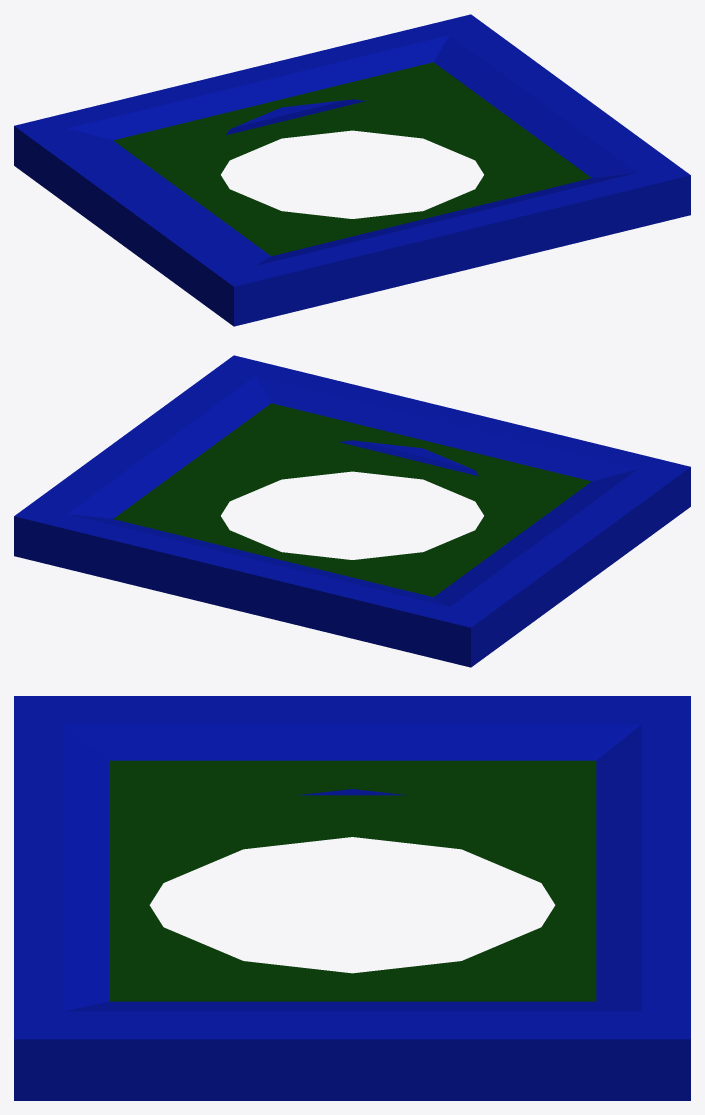
Rendered from OBJ_Tile_Sol_Tuyau.fbx.
3 views of the same model, one above another, from view 1: azimuth 30°, elevation 25°; view 2: azimuth 150°, elevation 25°; view 3: azimuth 270°, elevation 25° (orthographic). The views are drawn at different scales.
Parts seen in each view (by area): view 1: OBJ_Tile_sol_Tuyau; view 2: OBJ_Tile_sol_Tuyau; view 3: OBJ_Tile_sol_Tuyau.
Boxes of the visible parts, x1,y1,x2,y2 form: OBJ_Tile_sol_Tuyau: (14, 14, 690, 326); OBJ_Tile_sol_Tuyau: (14, 355, 690, 667); OBJ_Tile_sol_Tuyau: (14, 696, 690, 1100).
Size of the model in its own units: 12 by 1 by 10.
